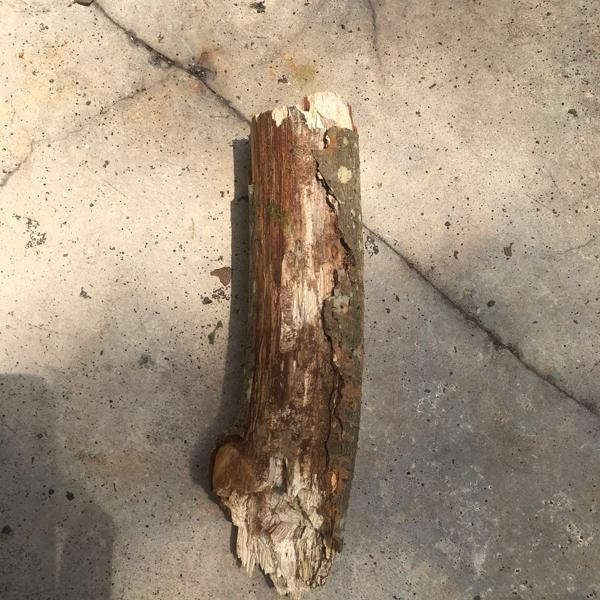Organik: (187, 93, 416, 600)
